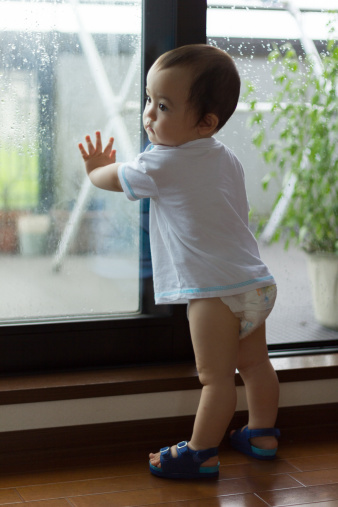em pe: (75, 45, 268, 484)
